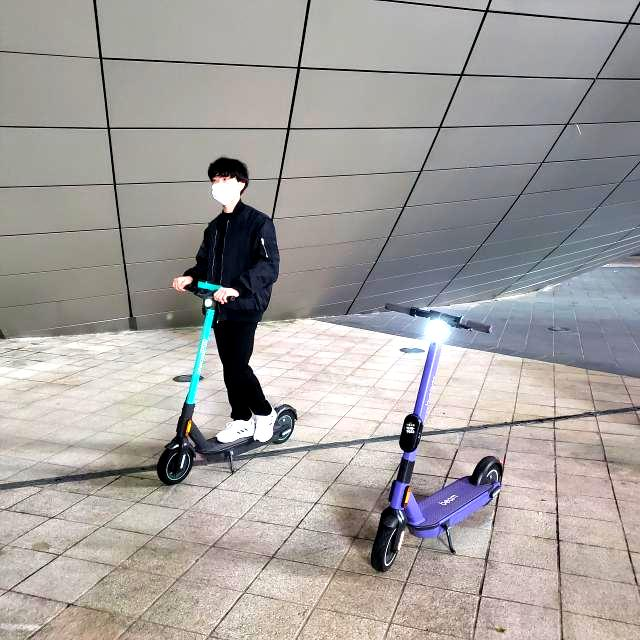bare_head: (197, 158, 267, 216)
human: (190, 154, 282, 430)
kickboard: (149, 402, 330, 496)
